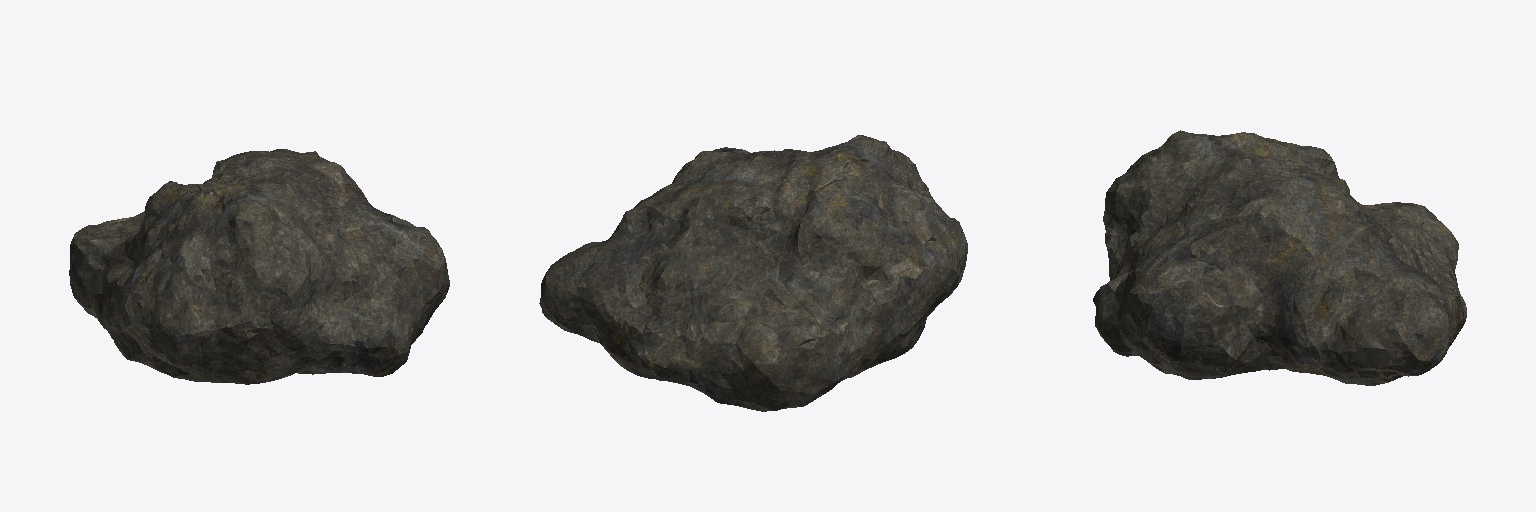
3 views of the same model, side by side, from view 1: azimuth 30°, elevation 25°; view 2: azimuth 150°, elevation 25°; view 3: azimuth 270°, elevation 25° (orthographic).
Visible parts, largest first — view 1: Cube; view 2: Cube; view 3: Cube.
Part boxes in pixels (x1,y1,x2,y2): Cube: (69,149,449,384); Cube: (539,135,967,411); Cube: (1093,130,1466,385).
Size of the model in its own units: 5.29 by 3.11 by 5.44.
Materials: 1 (1 with a texture image).